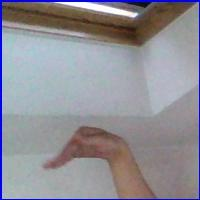del: (41, 122, 133, 181)
